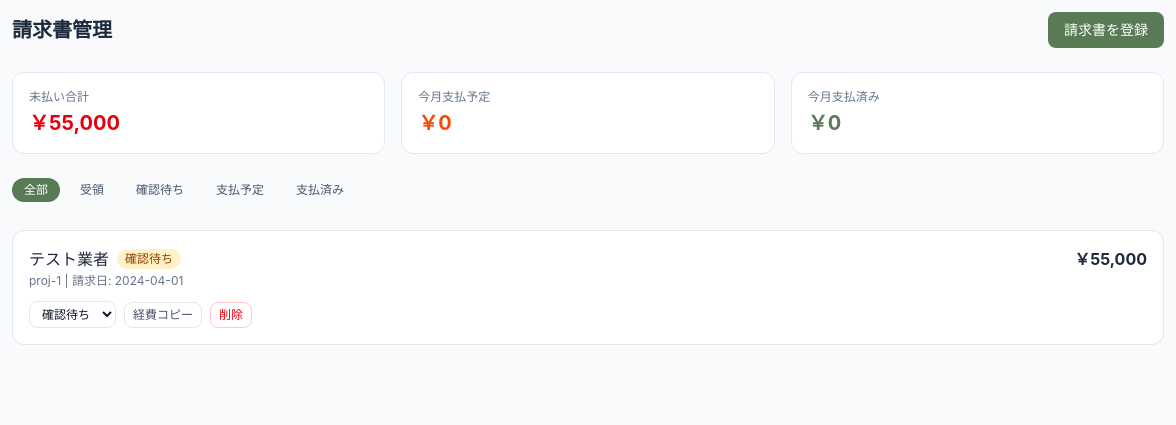
Scenario: InvoiceManagementPage › フィルター解除ボタンを押すと全件表示に戻る
This screenshot has width=1176, height=425.
What coordinates should you click on to do the following:
click the button "支払済み"
I would click on:
 (320, 190)
Its box is [284, 178, 356, 202].
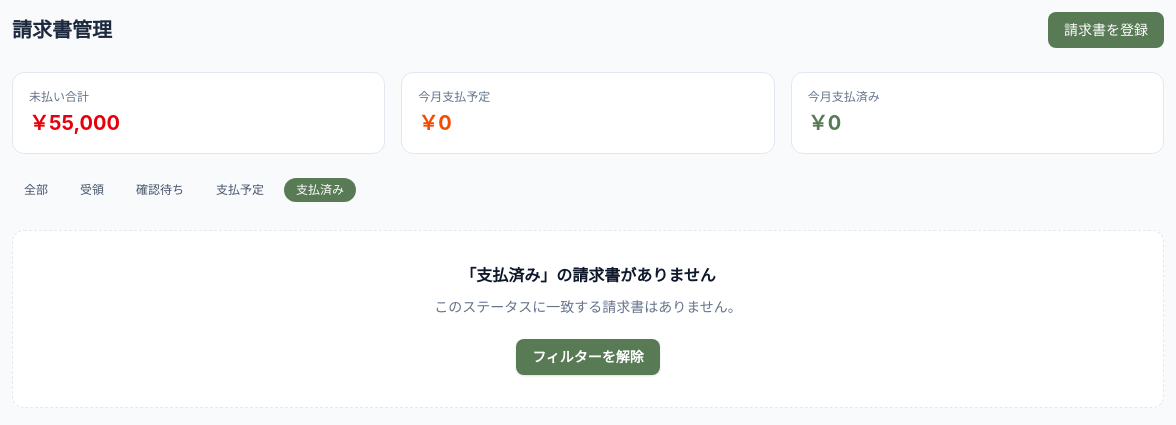
Now the button "フィルターを解除" is shown
//  フィルター解除
What coordinates should you click on to do the following:
click the button "フィルターを解除"
I would click on:
 (588, 357)
Its box is [516, 339, 660, 375].
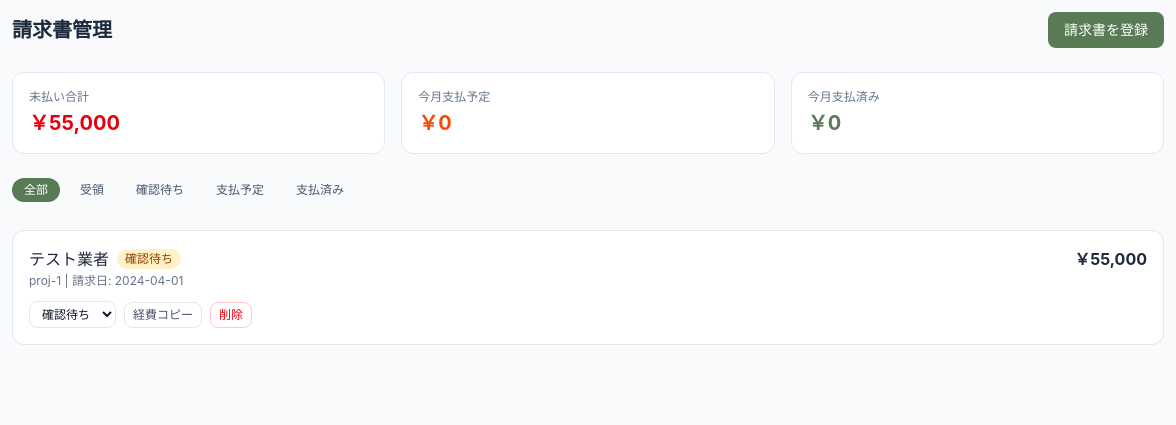
Now the text "テスト業者" is shown, box [29, 247, 109, 271]
